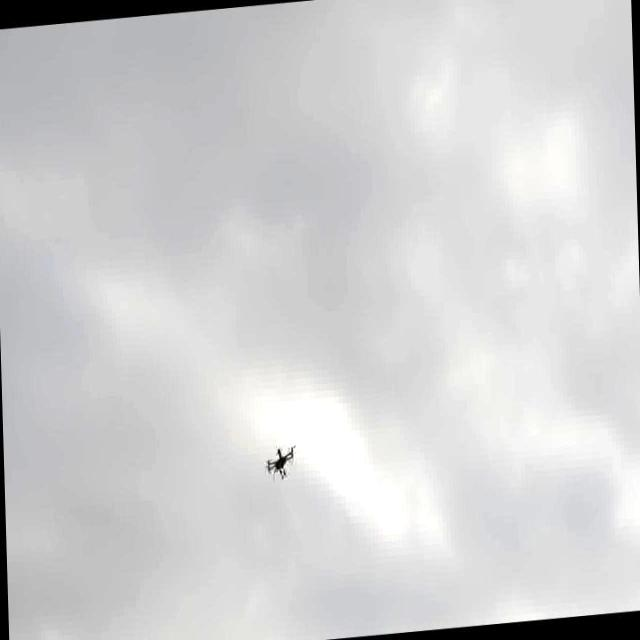drone: (265, 439, 296, 485)
